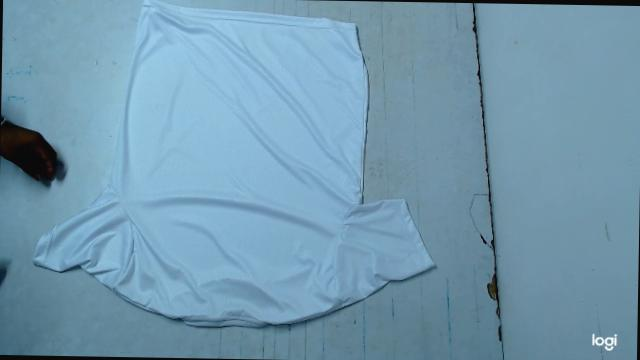new-garment: (33, 0, 434, 326)
